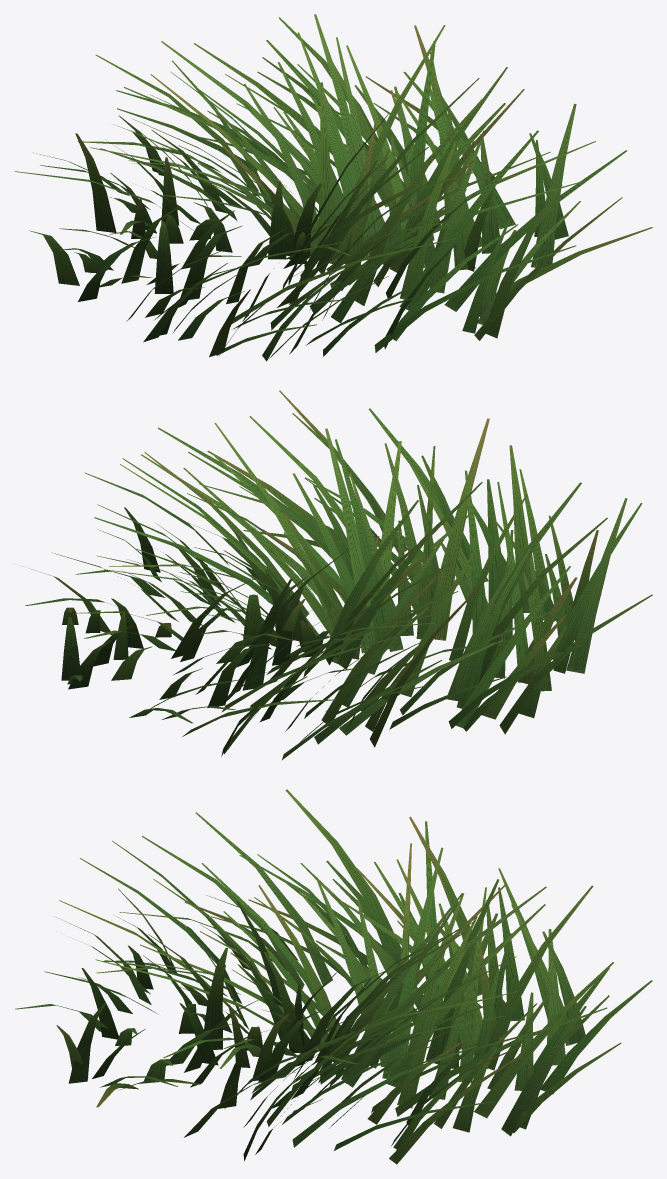
File: GroundProp_MeadowTurfClump.fbx
The picture shows the model from 3 angles, top to bottom: view 1: azimuth 30°, elevation 25°; view 2: azimuth 150°, elevation 25°; view 3: azimuth 270°, elevation 25°; orthographic projection. The views are drawn at different scales.
Parts seen in each view (by area): view 1: MeadowTurfClump; view 2: MeadowTurfClump; view 3: MeadowTurfClump.
Boxes of the visible parts, x1=… form: MeadowTurfClump: x1=14, y1=14, x2=652, y2=361; MeadowTurfClump: x1=23, y1=390, x2=652, y2=759; MeadowTurfClump: x1=15, y1=789, x2=652, y2=1164.
Size of the model in its own units: 4.62 by 1.38 by 4.59.
Materials: 1 (1 with a texture image).
